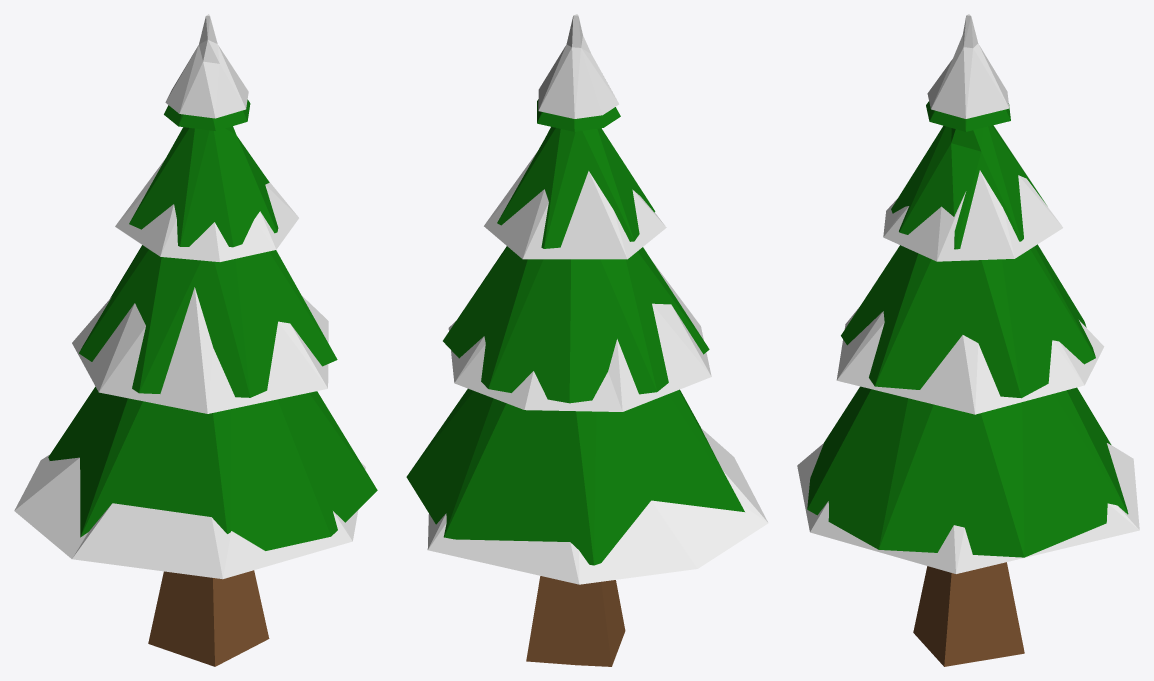
The model's file is tree02.fbx.
The picture shows the model from 3 angles, left to right: view 1: azimuth 30°, elevation 25°; view 2: azimuth 150°, elevation 25°; view 3: azimuth 270°, elevation 25°; orthographic projection.
Parts seen in each view (by area): view 1: tree02; view 2: tree02; view 3: tree02.
Part boxes in pixels (box(x1,y1,x2,y2)): tree02: box(14, 14, 377, 666); tree02: box(406, 14, 768, 666); tree02: box(797, 14, 1139, 666).
Size of the model in its own units: 271 by 531 by 255.
